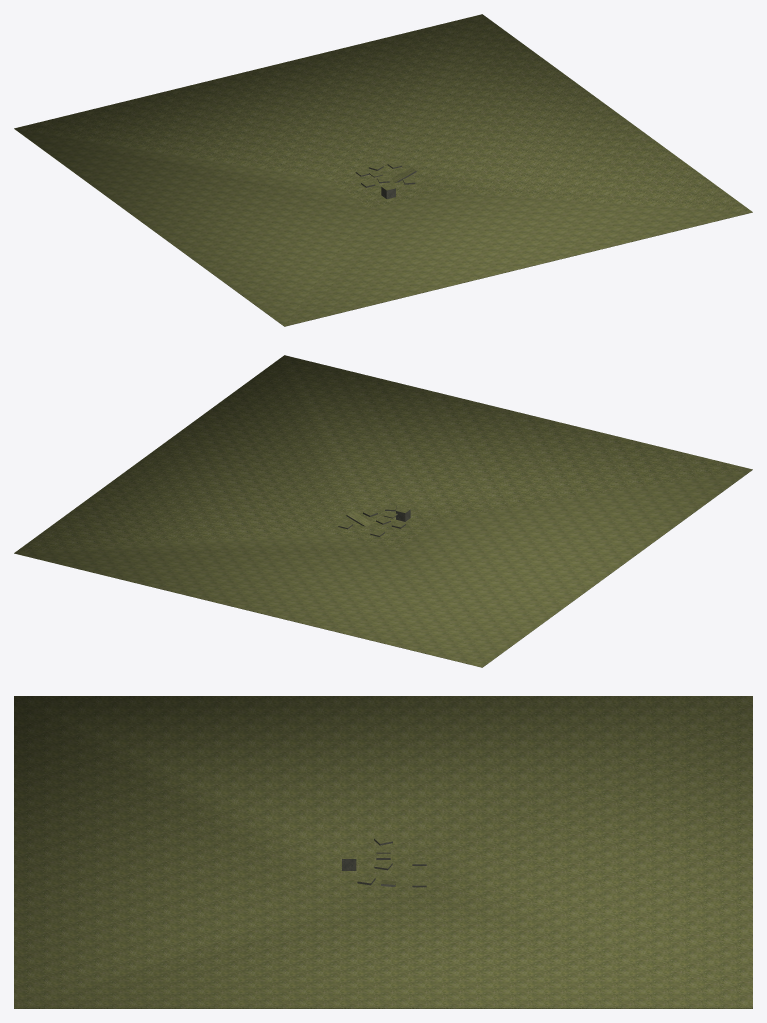
Rendered from platform.dae.
3 views of the same model, one above another, from view 1: azimuth 30°, elevation 25°; view 2: azimuth 150°, elevation 25°; view 3: azimuth 270°, elevation 25° (orthographic). The views are drawn at different scales.
Visible parts, largest first — view 1: Plane; view 2: Plane; view 3: Plane.
Boxes of the visible parts, x1=… form: Plane: x1=14, y1=14, x2=752, y2=326; Plane: x1=14, y1=355, x2=752, y2=667; Plane: x1=14, y1=696, x2=752, y2=1008.
Size of the model in its own units: 54.14 by 54.14 by 2.5.
Materials: 2 (2 with a texture image).
